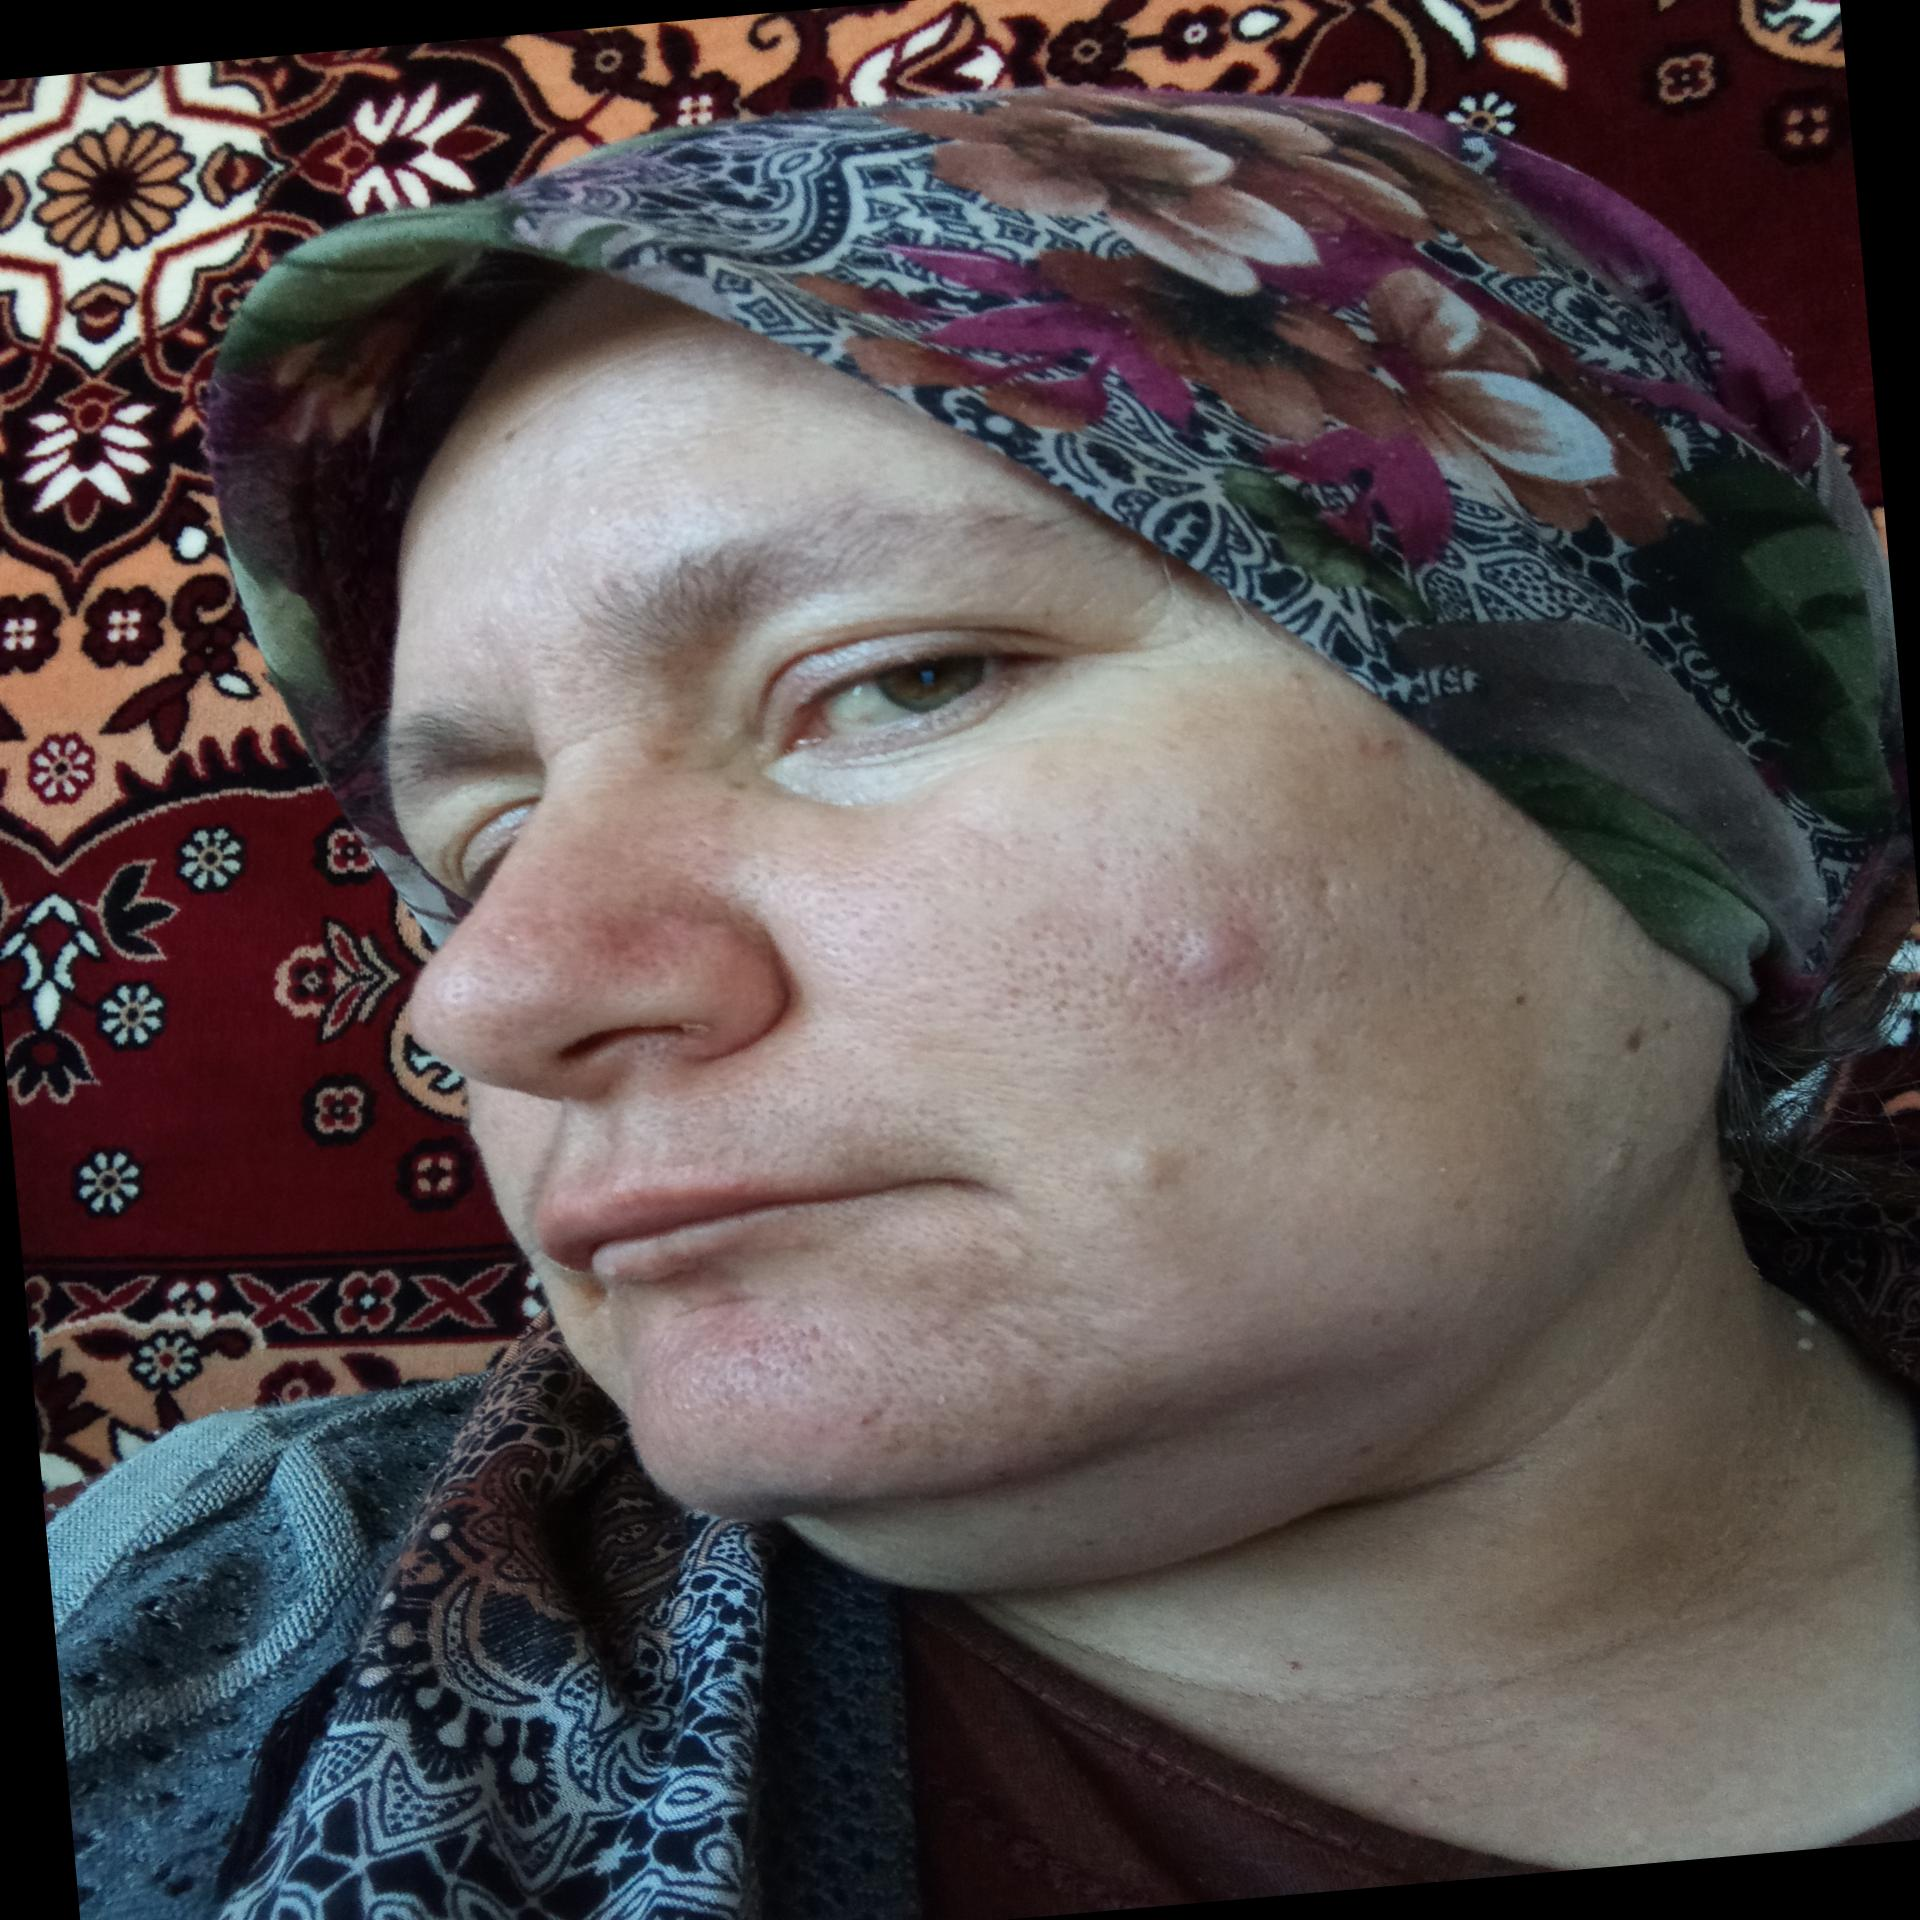Acne: (1162, 902, 1287, 1002), (1118, 1132, 1201, 1206), (1354, 726, 1410, 760)
Dry Skin: (663, 1308, 999, 1452), (978, 897, 1287, 1044), (789, 858, 1006, 1016), (431, 955, 580, 1027), (730, 840, 809, 898)
Wrinkles: (454, 329, 744, 462), (545, 712, 658, 767), (659, 1285, 786, 1326)
